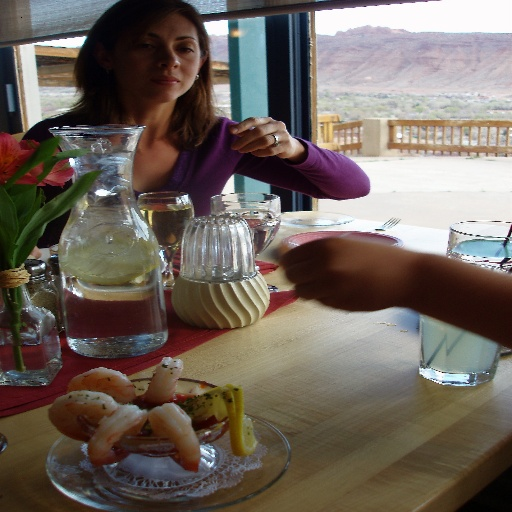hand: (276, 237, 416, 315), (229, 114, 296, 161)
